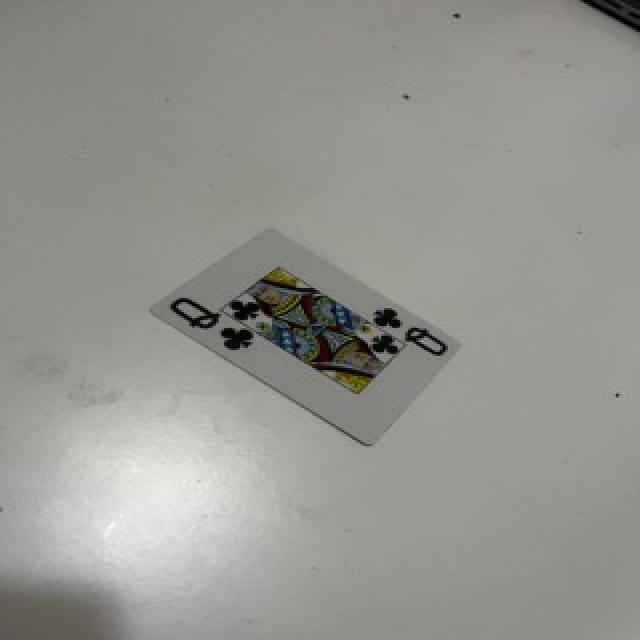Queen of clubs: (151, 225, 462, 448)
